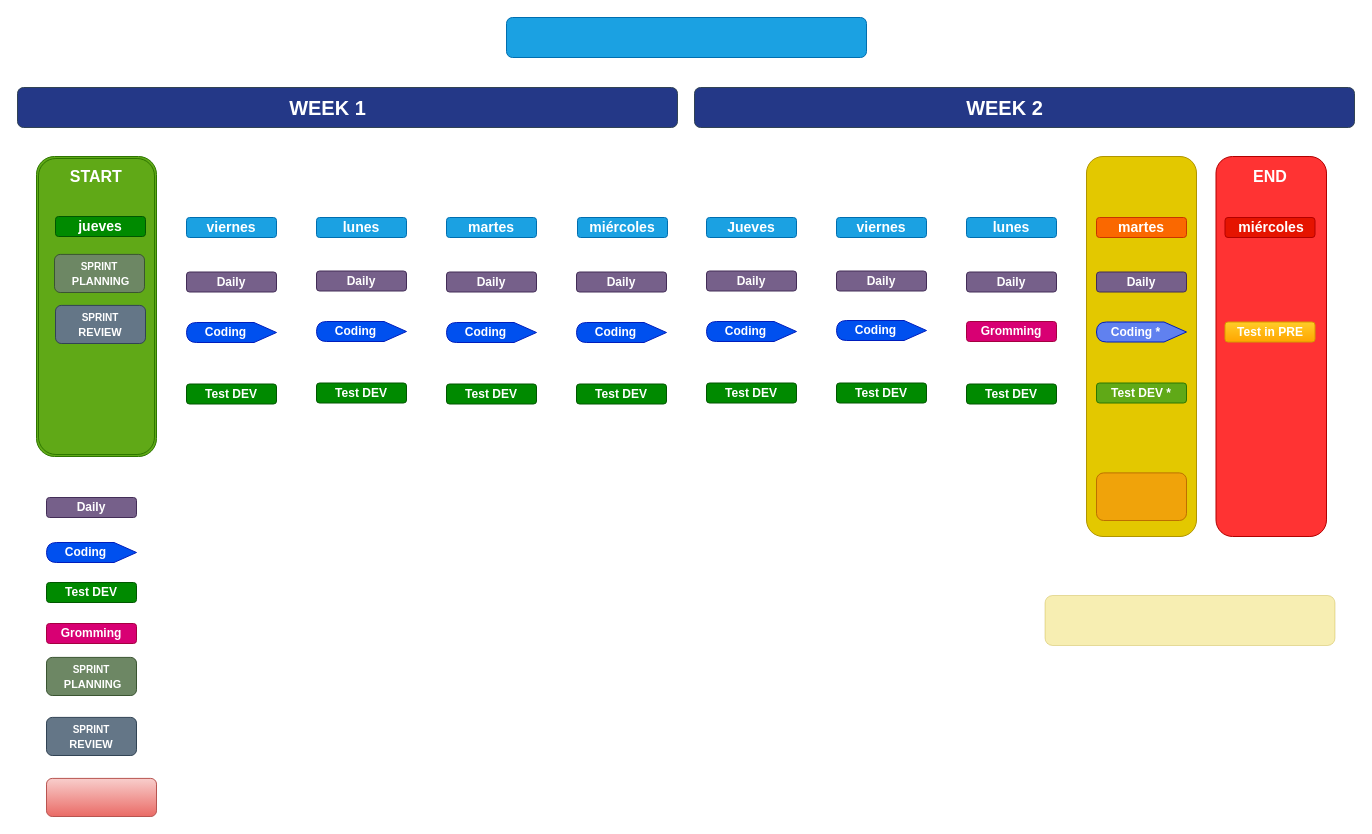
The diagram is 1372 pixels wide and 834 high, and some of its shapes have lost their labels. The centre of each missing label's shape, as x and y in pixels:
* Coding and Test in dev until 15h: the point at 1189,620
SPRINT RETROSPECTIVE: the point at 101,796
SPRINT TWO WEEKS: the point at 686,37
Update PRE 16h-18h: the point at 1141,496
